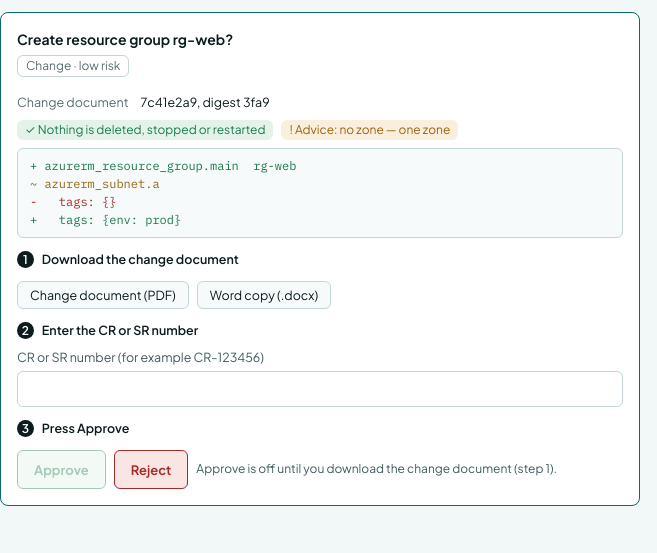
Test: an Azure change on its card › shows a refused download as the server wrote it
The image size is (657, 553).
Click the button "Change document (PDF)" at (103, 295), box [17,280,189,309]
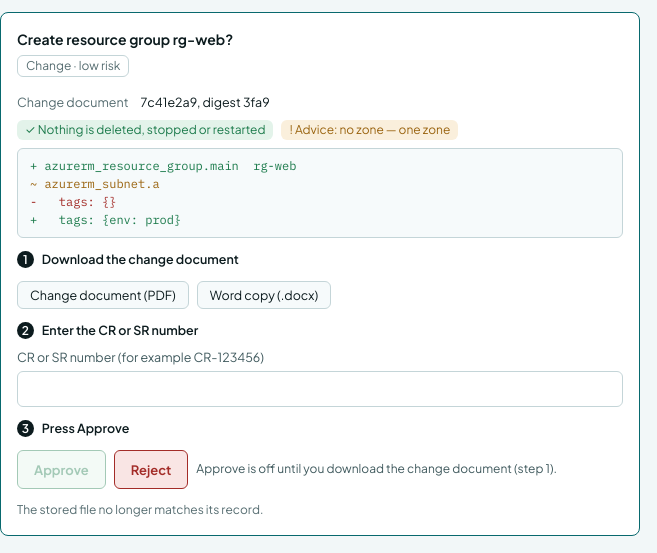
Check: the text "The stored file no longer matches its record." is shown, box [17,502,263,517]
